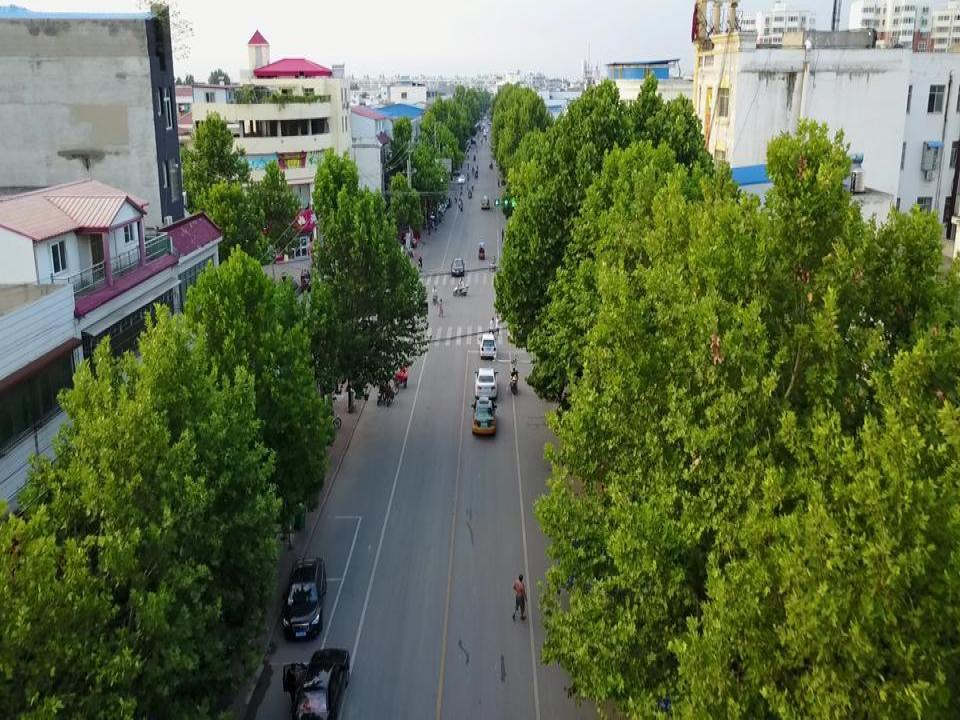car: (283, 649, 350, 719), (281, 557, 327, 639), (470, 396, 498, 435), (474, 368, 498, 397), (479, 333, 497, 359), (280, 271, 298, 292), (451, 257, 465, 276), (300, 268, 310, 291), (480, 196, 490, 209)
